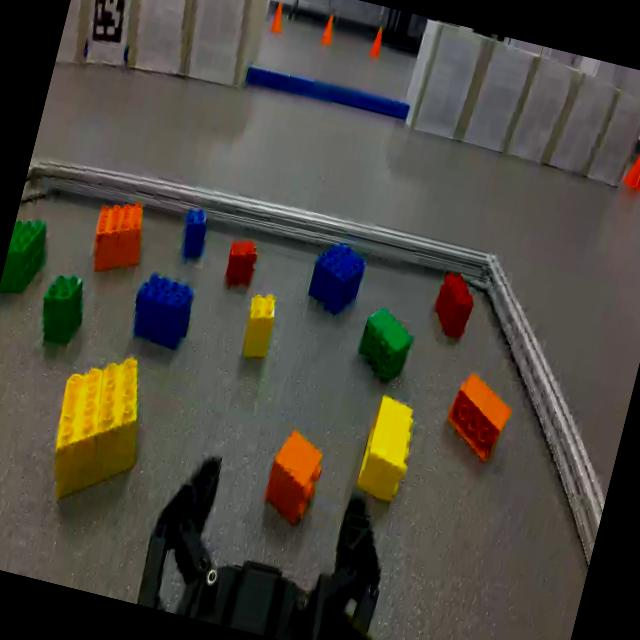block: (30, 344, 160, 518), (352, 395, 424, 504), (236, 291, 281, 364)
blue: (126, 268, 199, 354), (302, 238, 368, 316), (176, 203, 214, 260)
cone: (619, 133, 640, 198), (363, 22, 388, 62), (265, 0, 291, 37), (314, 11, 338, 50)
green: (352, 302, 418, 384), (32, 266, 92, 351), (0, 212, 55, 304)
metal barrier: (18, 154, 603, 578)
orange: (256, 424, 331, 534), (438, 369, 516, 464), (85, 196, 156, 280)
red goal: (425, 268, 478, 340), (223, 236, 261, 286)
river: (246, 60, 409, 125)
storage cube: (399, 19, 486, 144), (506, 49, 592, 175), (169, 0, 277, 95), (460, 38, 536, 158), (545, 61, 618, 182), (111, 0, 206, 81), (584, 69, 640, 194), (54, 0, 109, 73)
